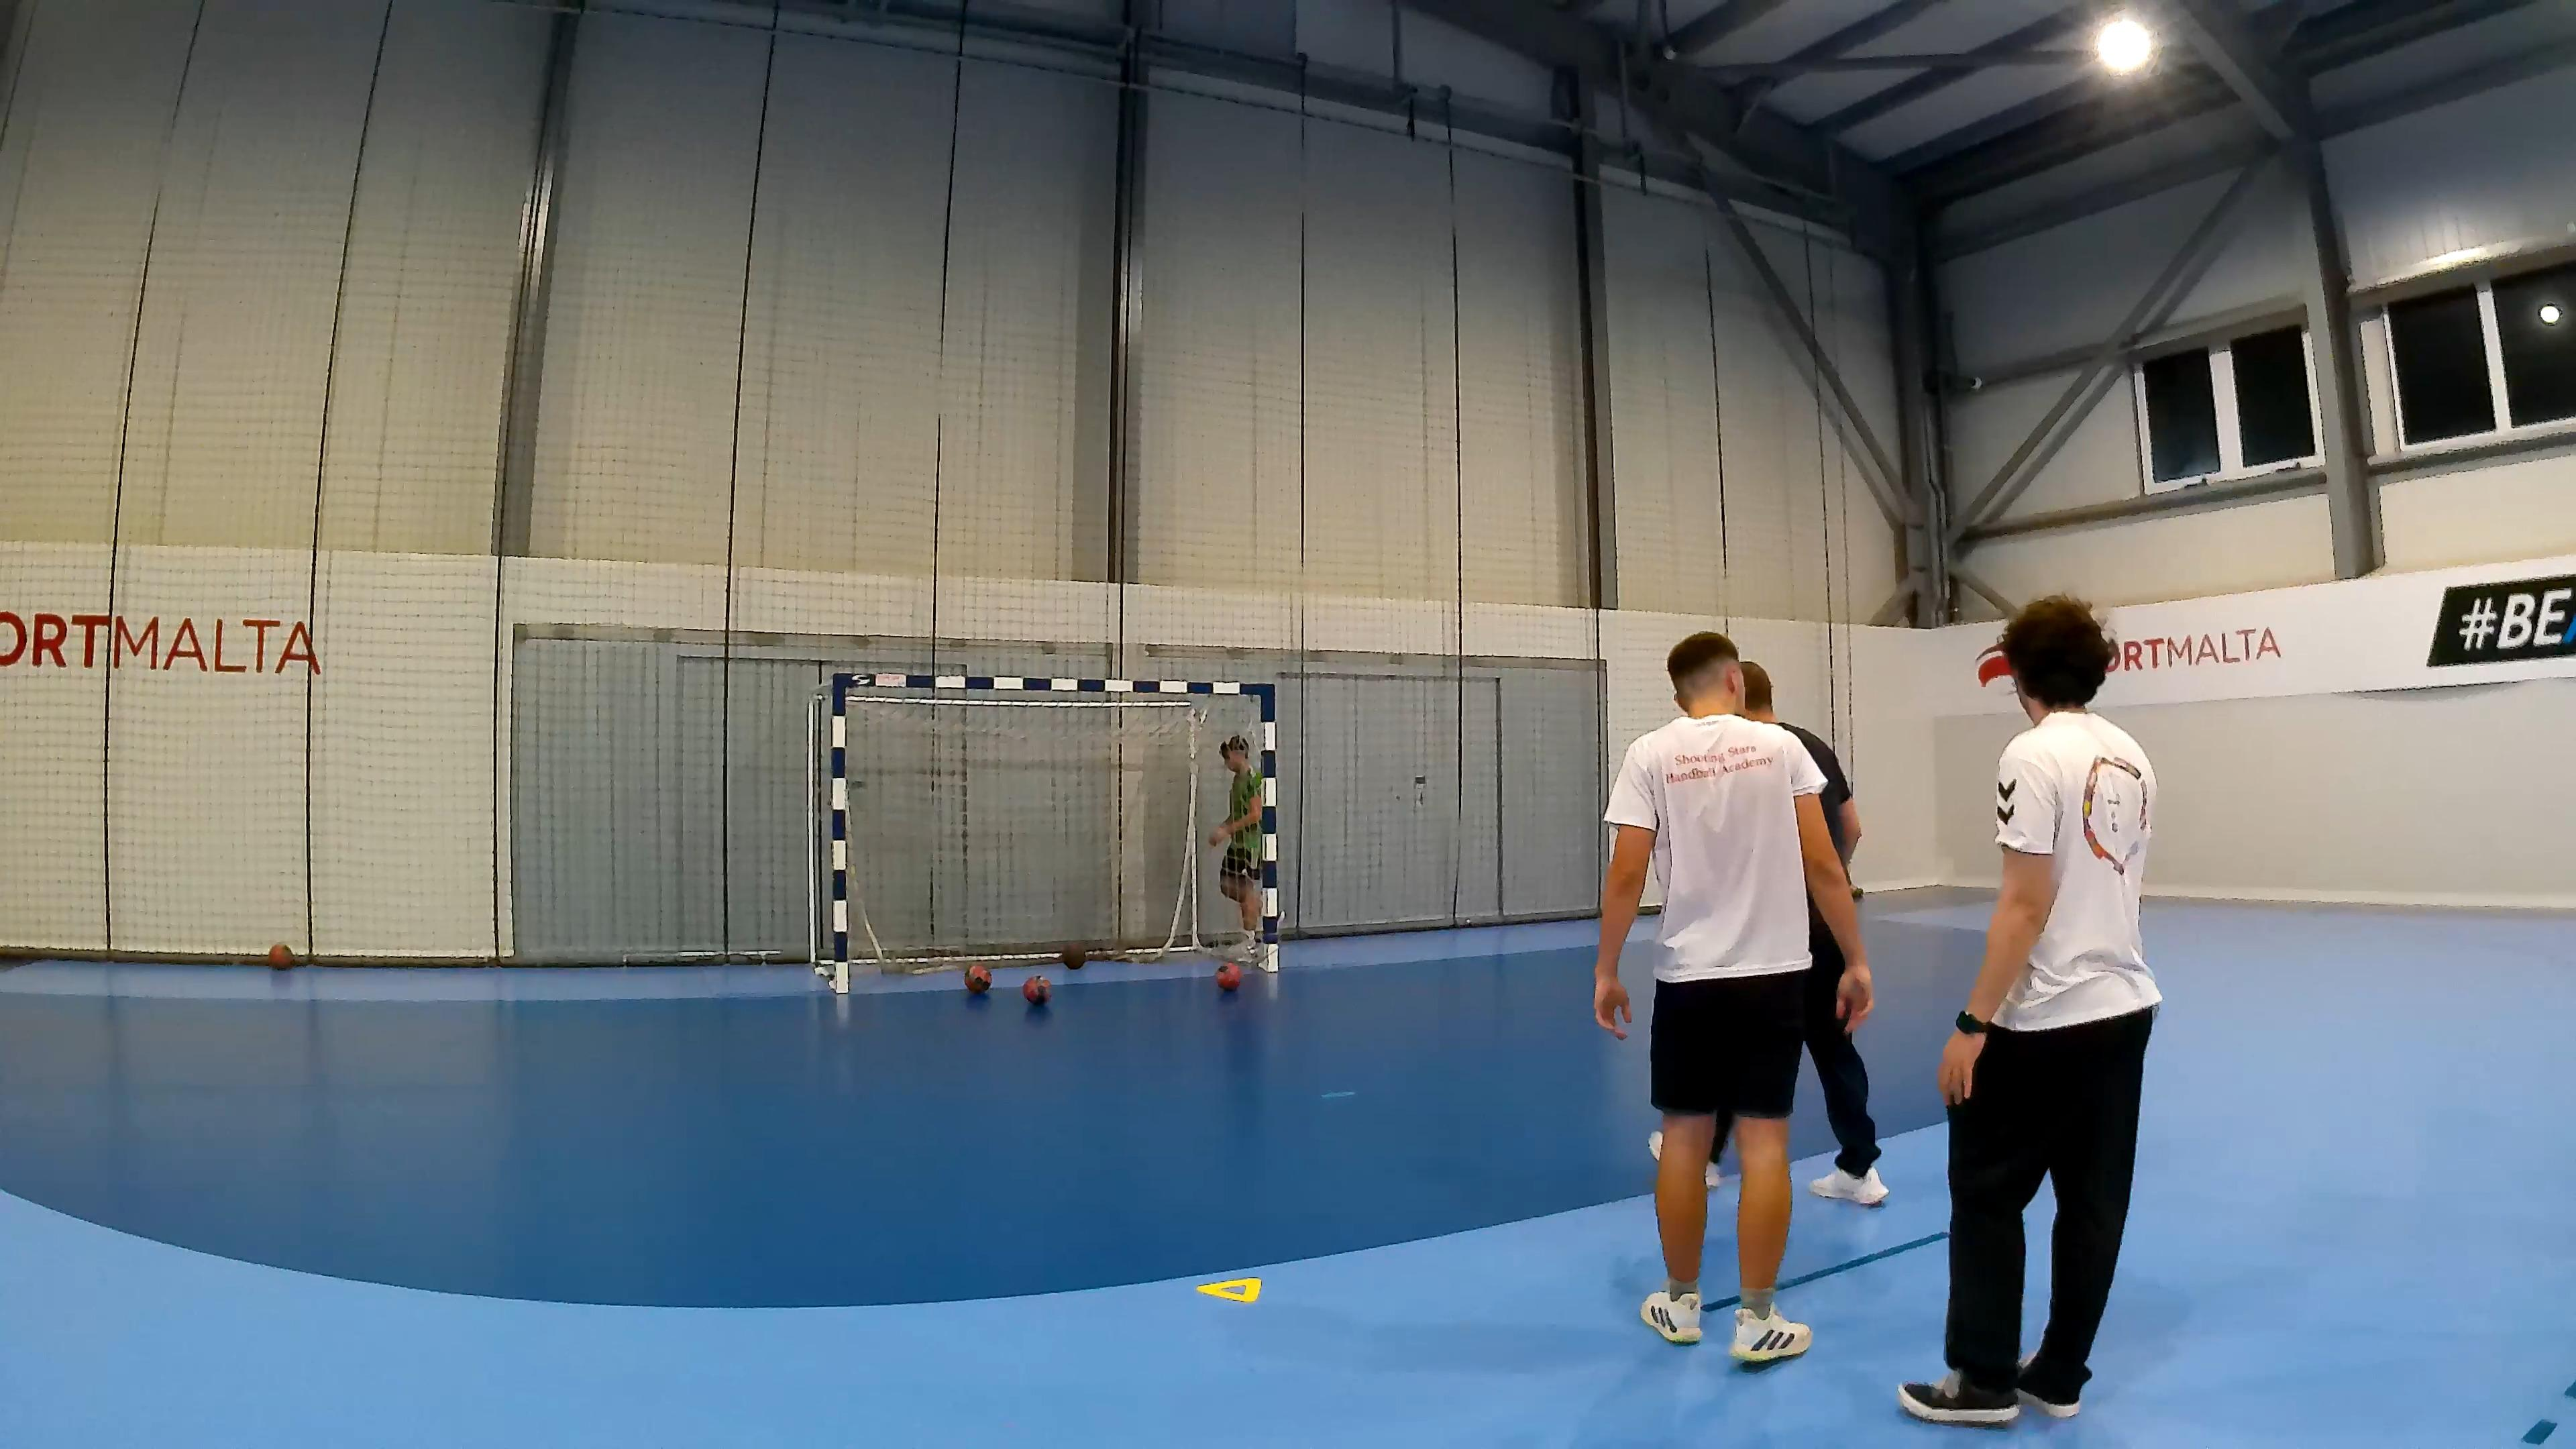handball: (962, 962, 991, 993), (1021, 973, 1049, 1003), (1060, 941, 1085, 970), (1215, 962, 1240, 989)
